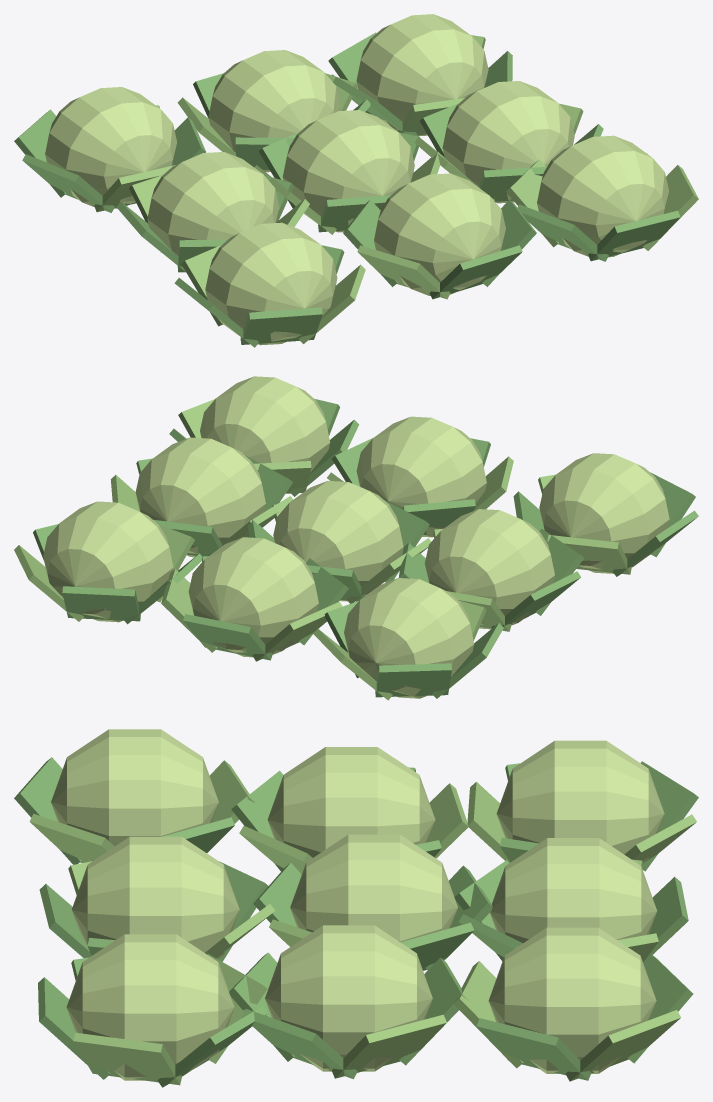
Rendered from crop_cabbage.glb.
3 renders of one model, top to bottom at view 1: azimuth 30°, elevation 25°; view 2: azimuth 150°, elevation 25°; view 3: azimuth 270°, elevation 25°, orthographic. The views are drawn at different scales.
Visible parts, largest first — view 1: leaf_light, leaf_dark, leaf; view 2: leaf_light, leaf_dark, leaf; view 3: leaf_light, leaf_dark, leaf.
Part boxes in pixels (bbox=[...]): leaf_light: bbox=[45, 14, 668, 345]; leaf_dark: bbox=[14, 32, 680, 347]; leaf: bbox=[94, 35, 698, 343]; leaf_light: bbox=[43, 376, 669, 698]; leaf_dark: bbox=[33, 399, 698, 698]; leaf: bbox=[14, 399, 631, 700]; leaf_light: bbox=[51, 729, 664, 1080]; leaf_dark: bbox=[14, 757, 698, 1087]; leaf: bbox=[29, 760, 696, 1085].
Bounding box in the file's own units: 0.9422 × 0.1883 × 0.8968.
